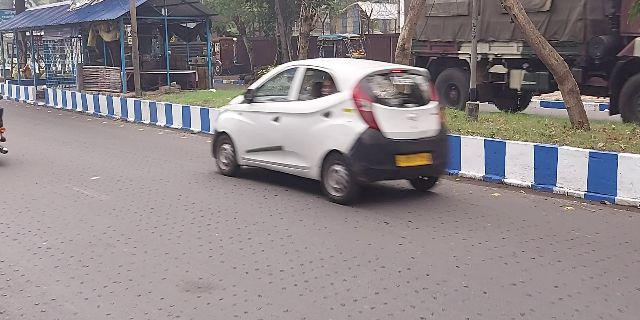Car: (205, 59, 450, 204)
